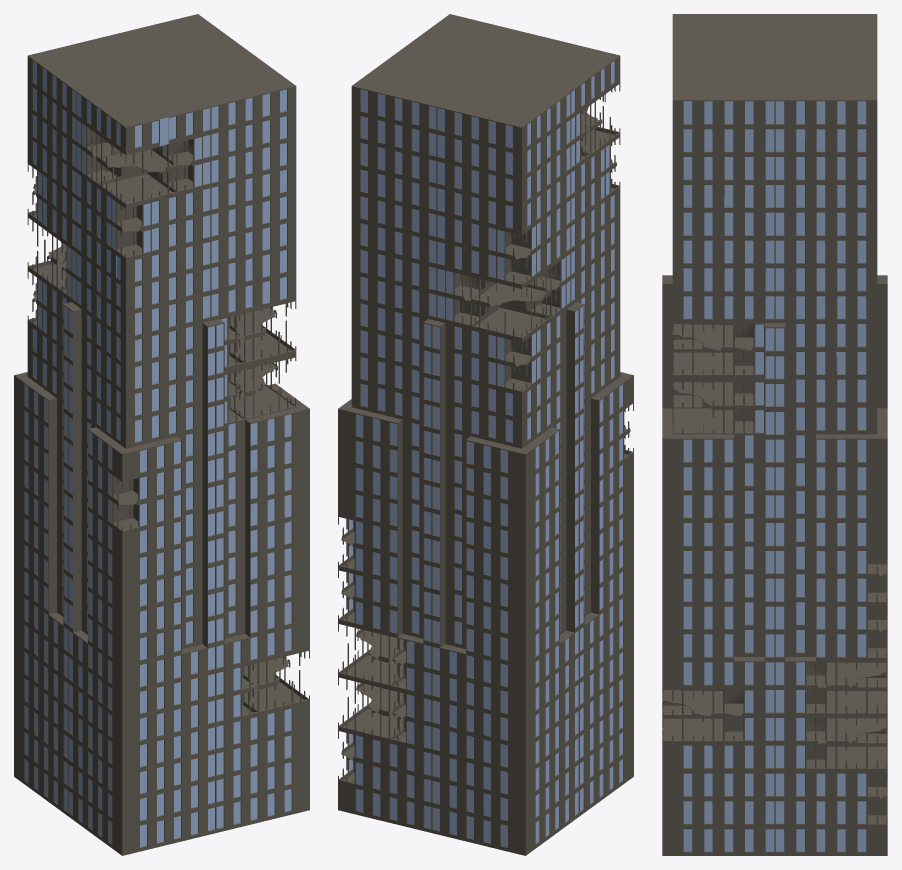
The model's file is Imeuble2.fbx.
3 views of the same model, side by side, from view 1: azimuth 30°, elevation 25°; view 2: azimuth 150°, elevation 25°; view 3: azimuth 270°, elevation 25° (orthographic). The views are drawn at different scales.
Parts seen in each view (by area): view 1: toure_1_détruite; view 2: toure_1_détruite; view 3: toure_1_détruite.
Boxes of the visible parts, x1,y1,x2,y2 form: toure_1_détruite: (14,14,309,855); toure_1_détruite: (338,14,633,855); toure_1_détruite: (662,14,887,855).
Bounding box in the file's own units: 2.2 × 8.1 × 2.2.
